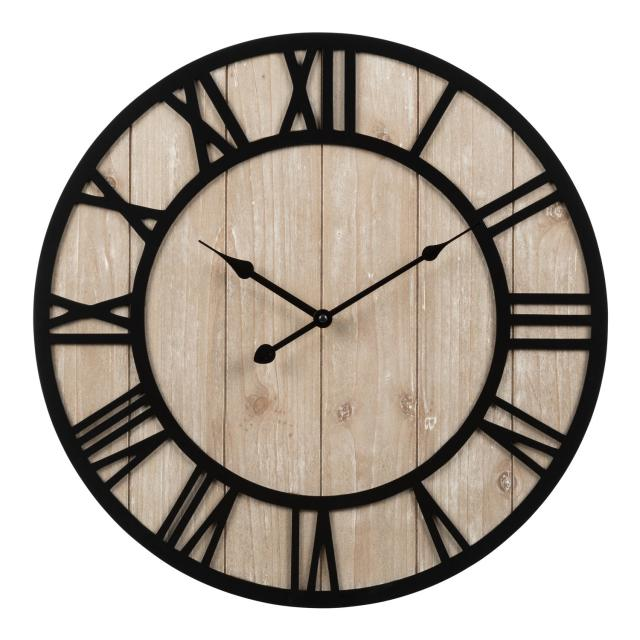clock: (4, 0, 640, 589)
